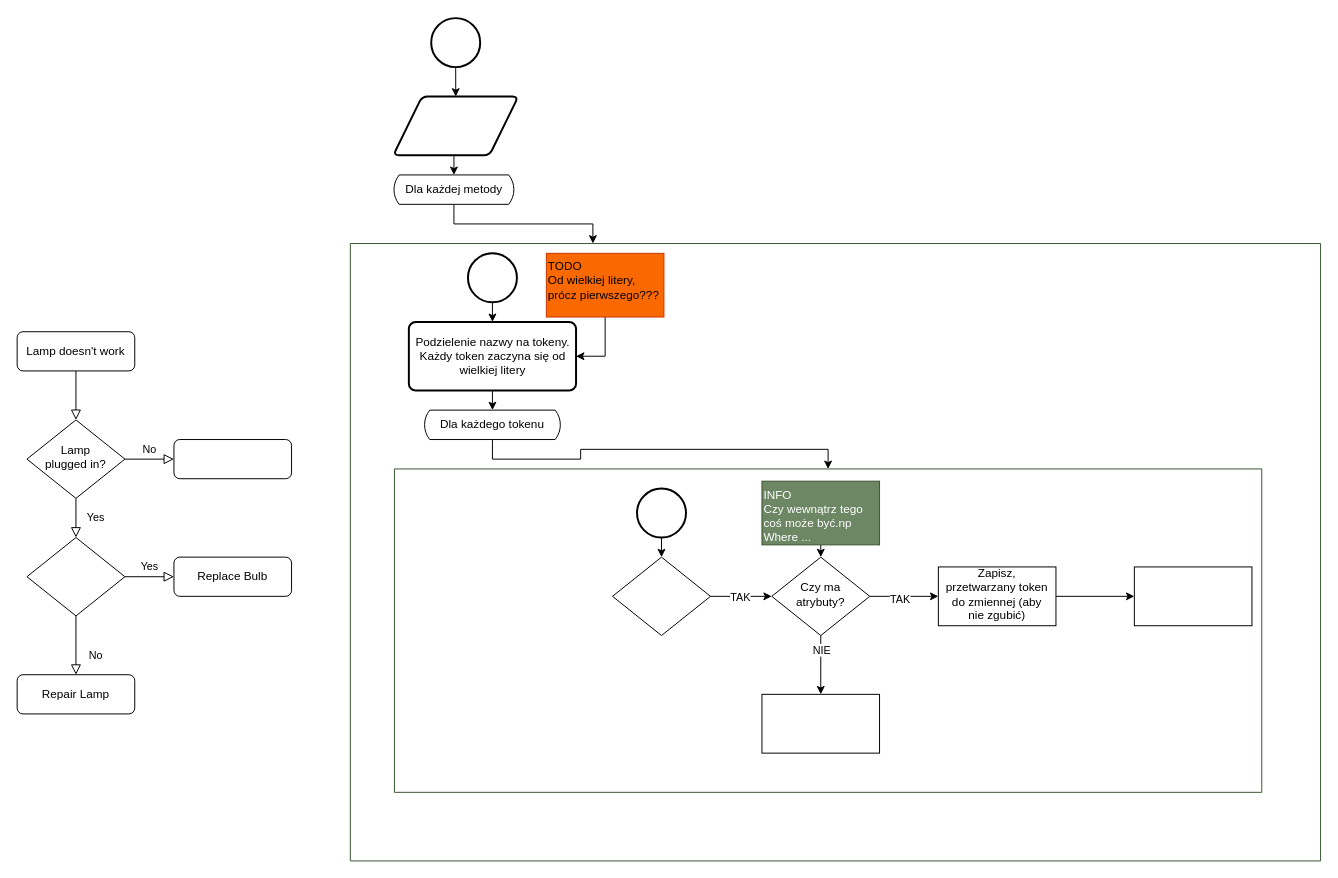
The diagram is 1338 pixels wide and 878 high, and some of its shapes have lost their labels. The shapes that lost their labels are listed below. From the top down, each one's box as (x1, y1, x2, y2) in pixels, then its label:
(392, 95, 519, 156): Klasa Javova
(173, 439, 292, 479): Plug in lamp
(26, 537, 125, 616): Bulb burned out?
(612, 556, 710, 636): Czy rozpoznaje token
(1133, 566, 1252, 626): Dodaj do kolejki Dalszą część
(761, 693, 880, 753): Wygeneruj kod
